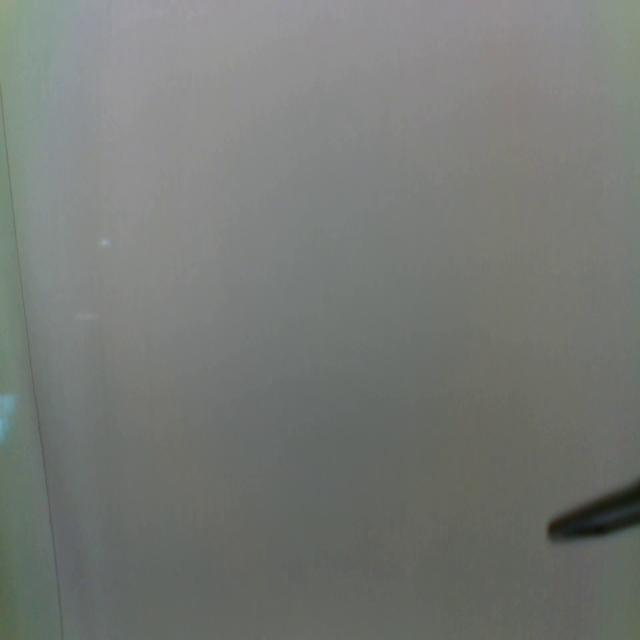crease: (0, 77, 66, 638)
